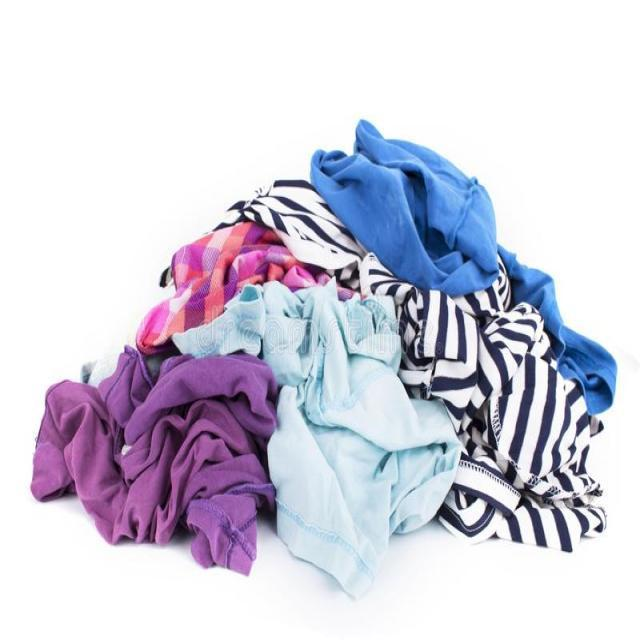clothes: (186, 256, 517, 492)
